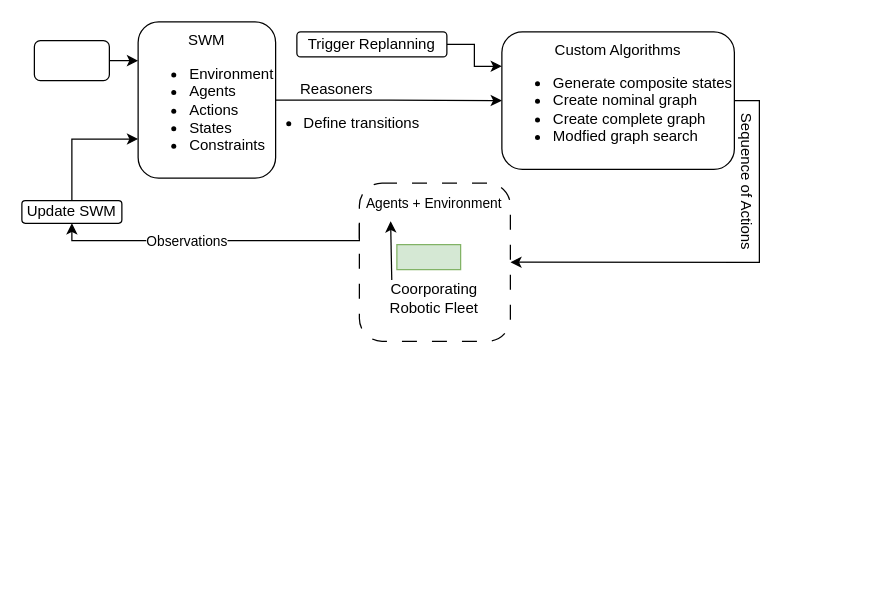
Image size: 881x605. Some labels were removed from this diagram. The centre of each missing label's shape, as x and y in pixels:
Actions: [428,256]
Mission: [71,60]
